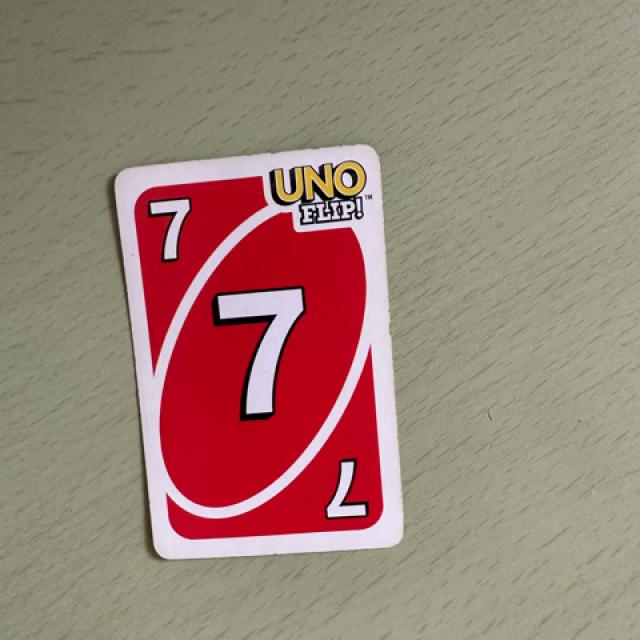lred-7: (128, 182, 219, 270)
